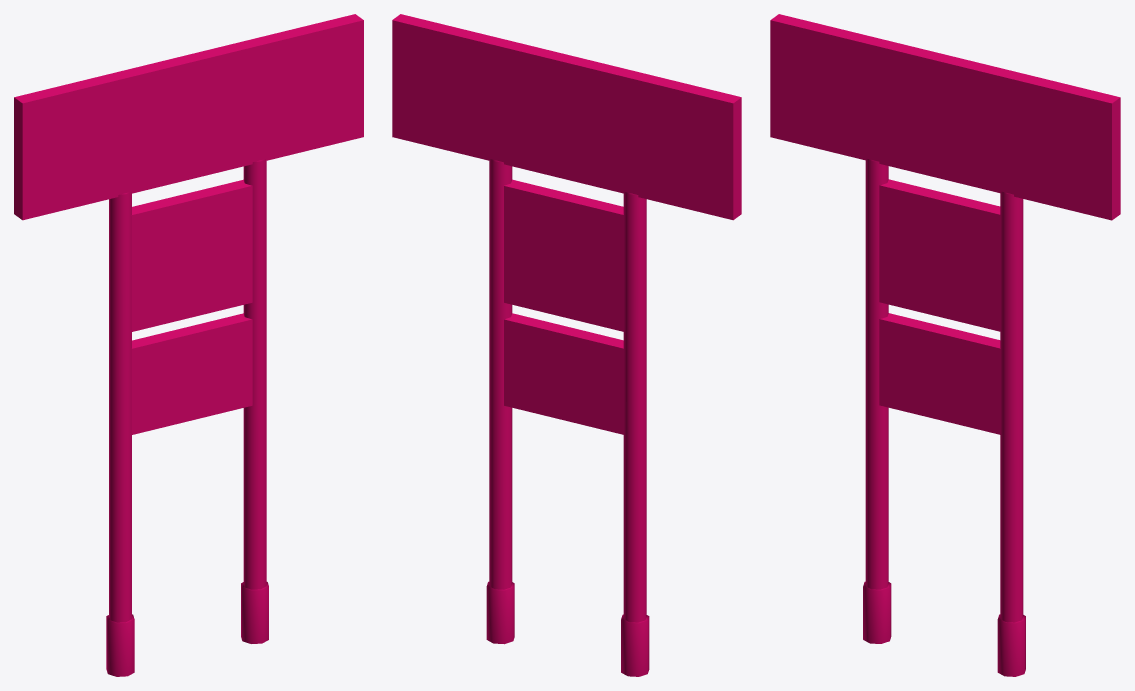
Rendered from Commercials_Bilboard_04_Lod0.fbx.
The picture shows the model from 3 angles, left to right: view 1: azimuth 30°, elevation 25°; view 2: azimuth 150°, elevation 25°; view 3: azimuth 330°, elevation 25°; orthographic projection.
Parts seen in each view (by area): view 1: Commercials_Bilboard_04_Lod0; view 2: Commercials_Bilboard_04_Lod0; view 3: Commercials_Bilboard_04_Lod0.
Part boxes in pixels (x1=…): Commercials_Bilboard_04_Lod0: x1=14, y1=14, x2=363, y2=676; Commercials_Bilboard_04_Lod0: x1=392, y1=14, x2=741, y2=676; Commercials_Bilboard_04_Lod0: x1=770, y1=14, x2=1120, y2=676.
Bounding box in the file's own units: 722 × 1205 × 53.51.
